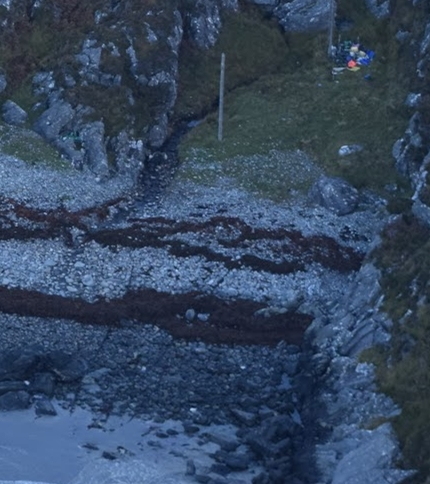together_barrel: (339, 36, 378, 74)
